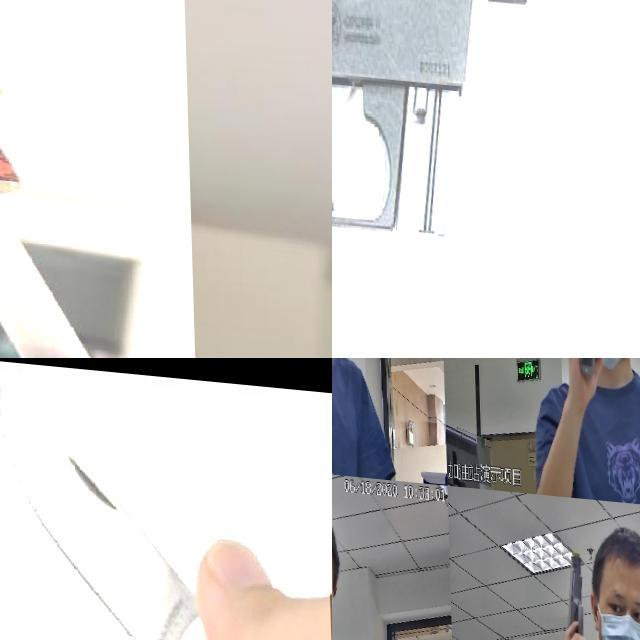-: (0, 368, 332, 640), (0, 0, 204, 358)
gun-knife-thesis - v11 Yolov5 augmented: (332, 0, 640, 358), (555, 535, 591, 640), (570, 358, 609, 434), (332, 514, 349, 640), (332, 358, 351, 454)
